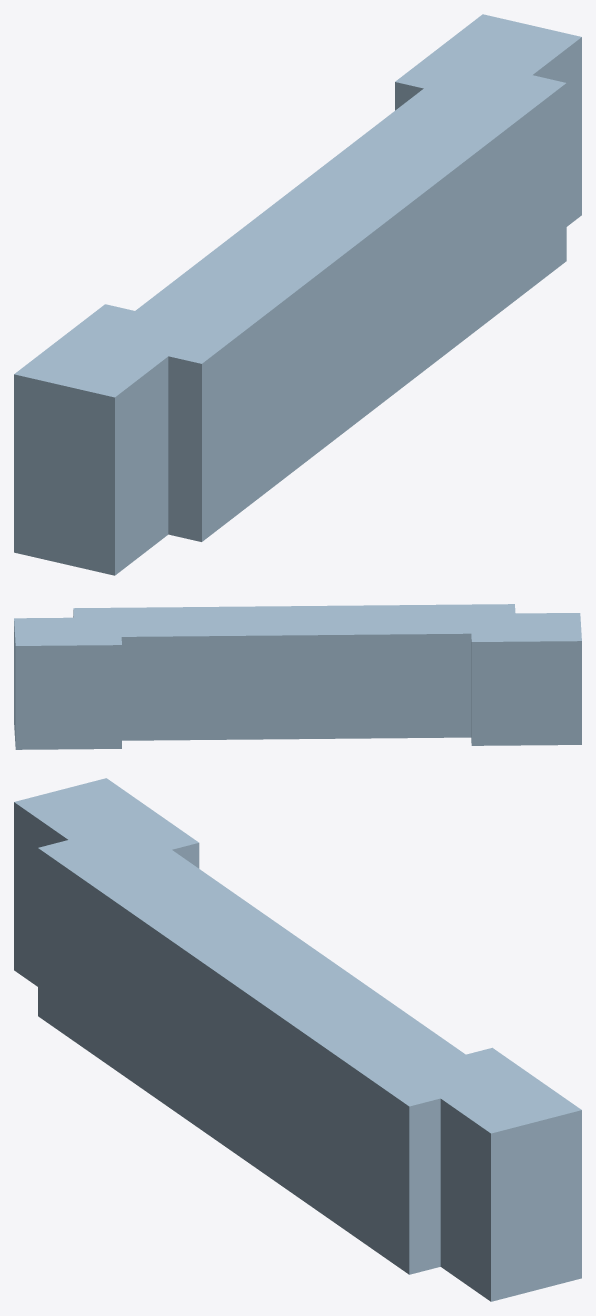
Rendered from osm_way_225250620.glb.
The picture shows the model from 3 angles, top to bottom: view 1: azimuth 30°, elevation 25°; view 2: azimuth 150°, elevation 25°; view 3: azimuth 270°, elevation 25°; orthographic projection. The views are drawn at different scales.
Visible parts, largest first — view 1: osm_way_225250620; view 2: osm_way_225250620; view 3: osm_way_225250620.
Part boxes in pixels (x1,y1,x2,y2): osm_way_225250620: (14,14,581,575); osm_way_225250620: (14,604,581,749); osm_way_225250620: (14,778,581,1301).
Size of the model in its own units: 86.97 by 19.2 by 58.72.
